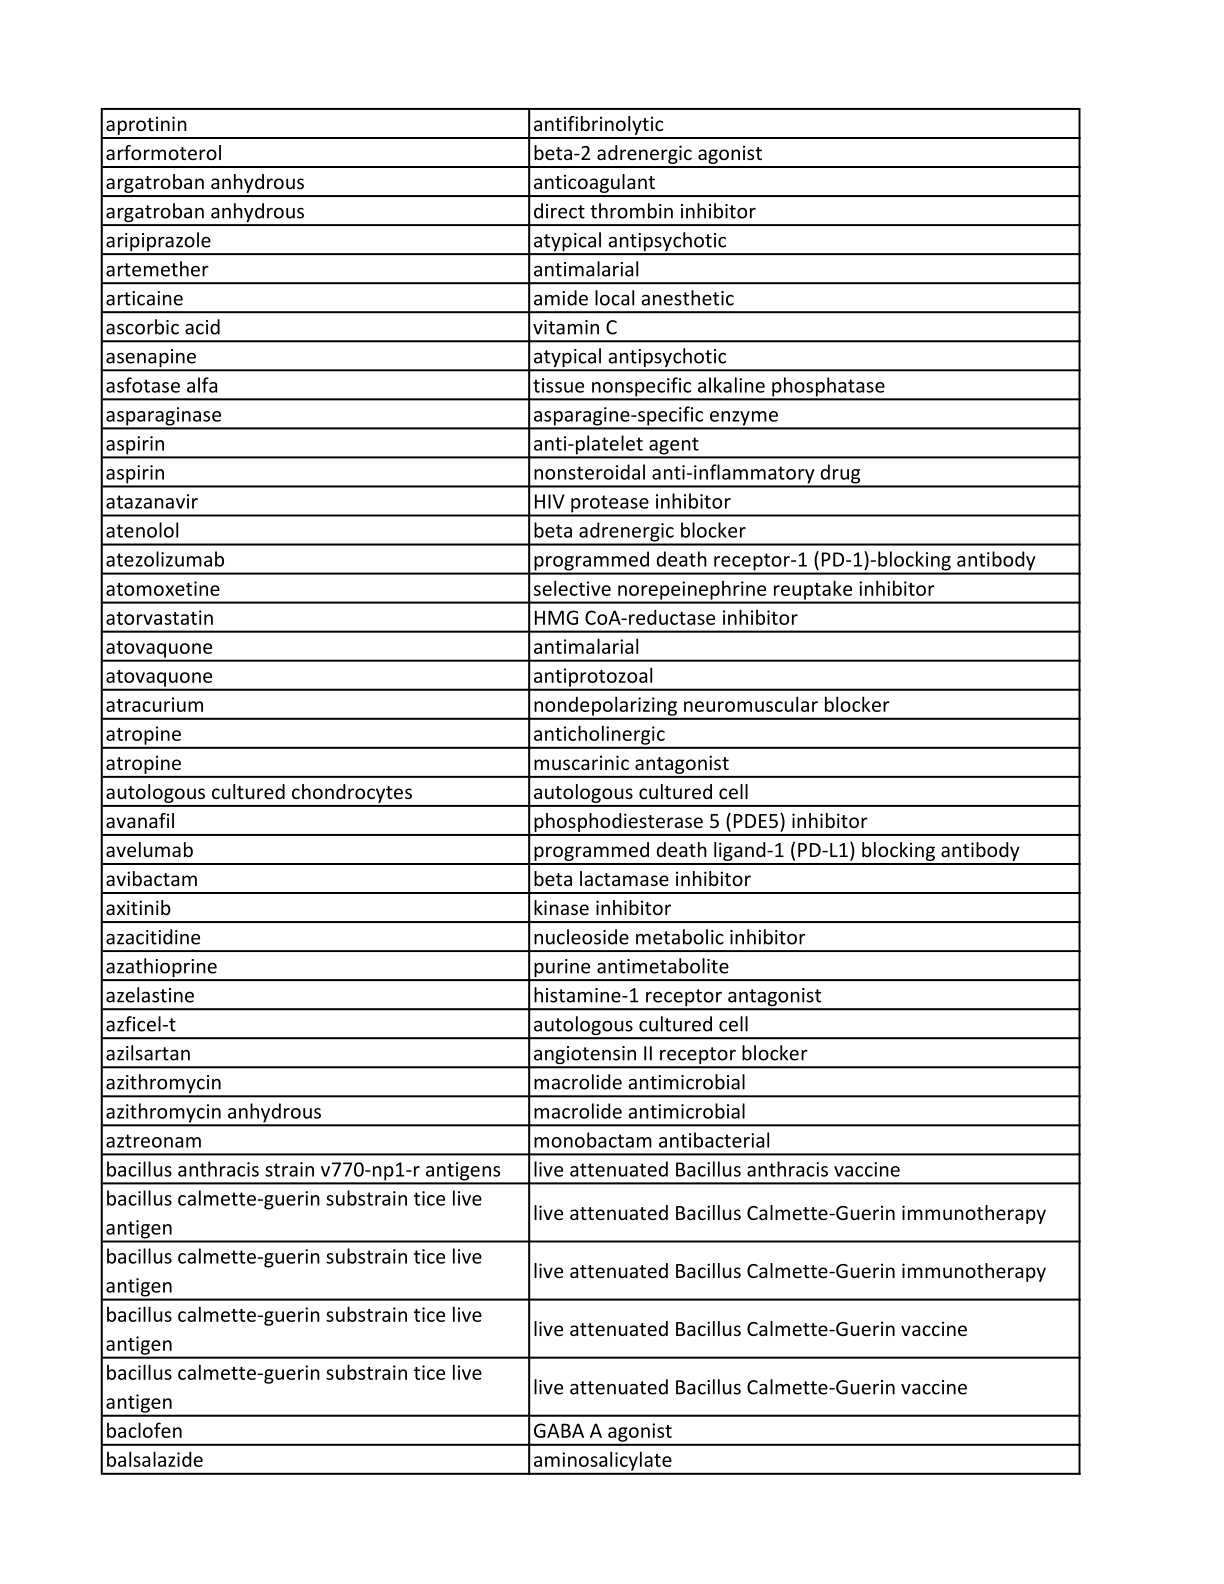full_lined: (99, 105, 1081, 1475)
